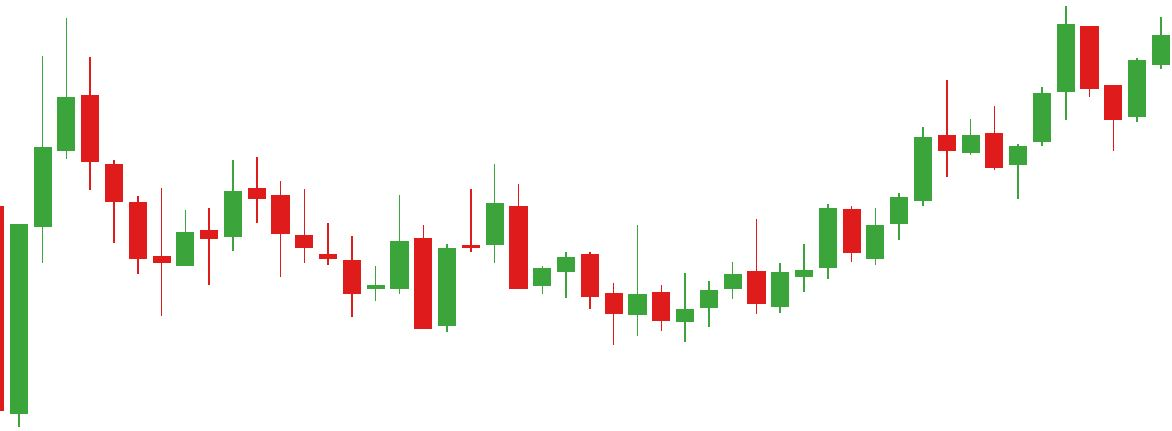buy: (341, 230, 460, 337)
